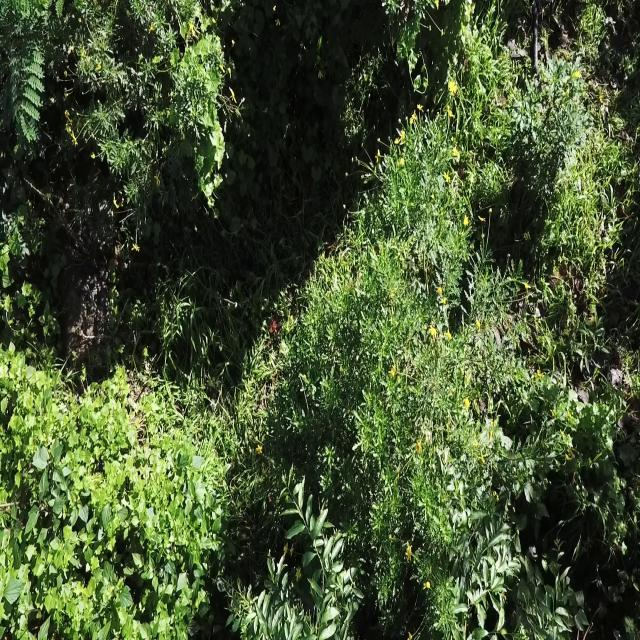Mysore-Thorn-Weed: (0, 0, 52, 159)
